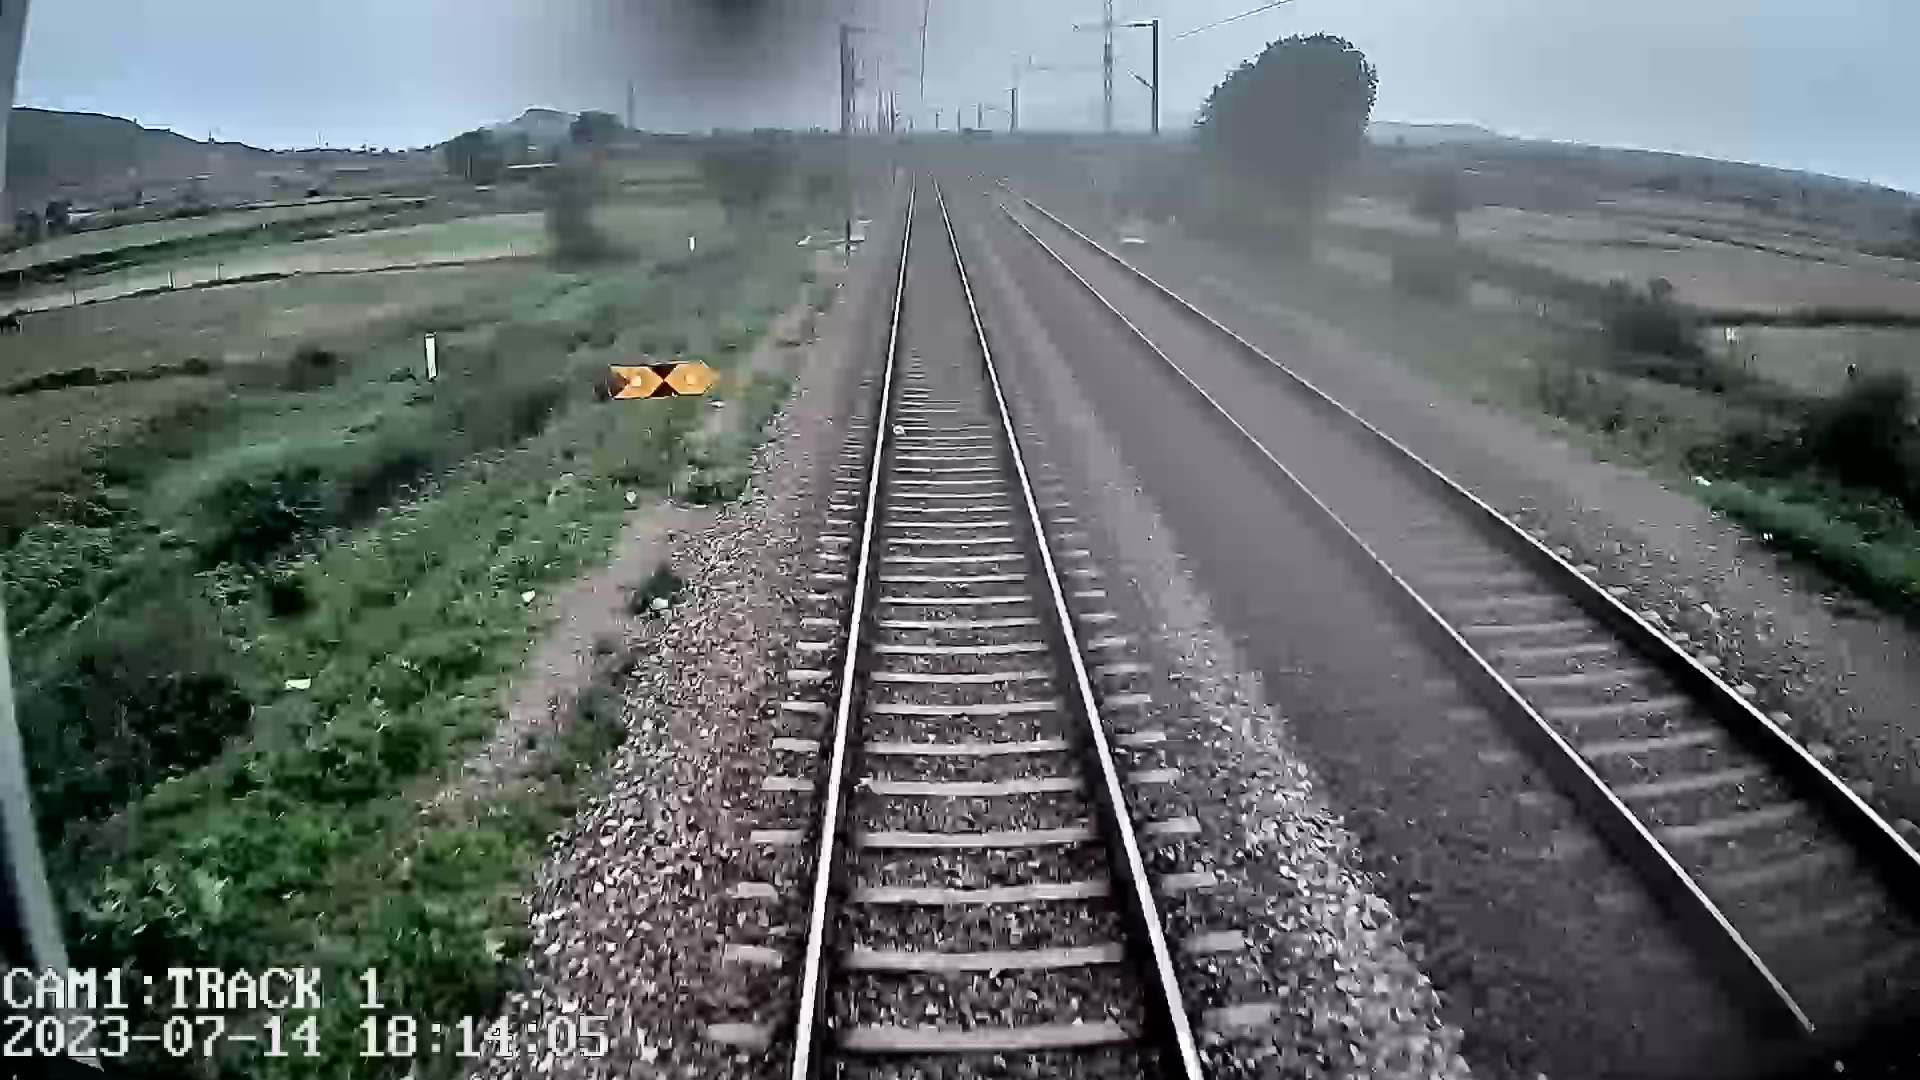track1: (799, 176, 1194, 1069)
track2: (988, 193, 1919, 1025)
